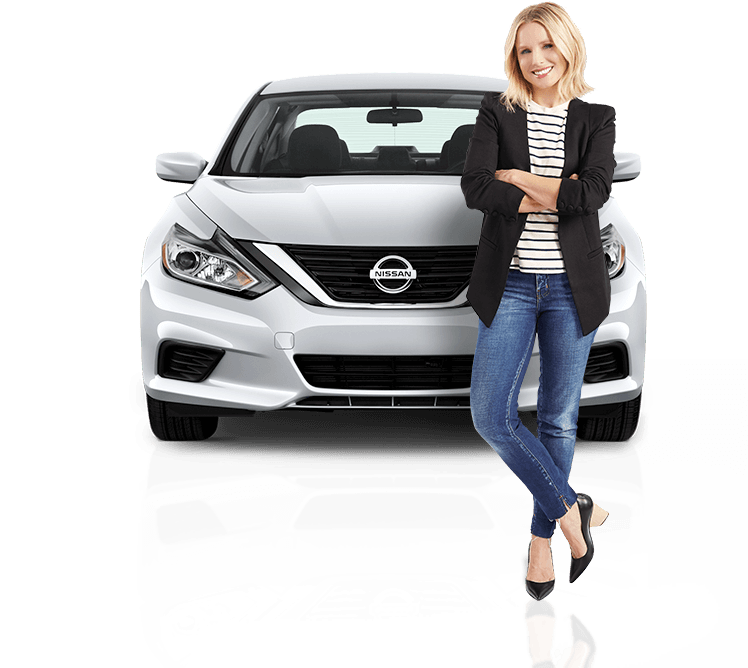car: (47, 69, 748, 472)
